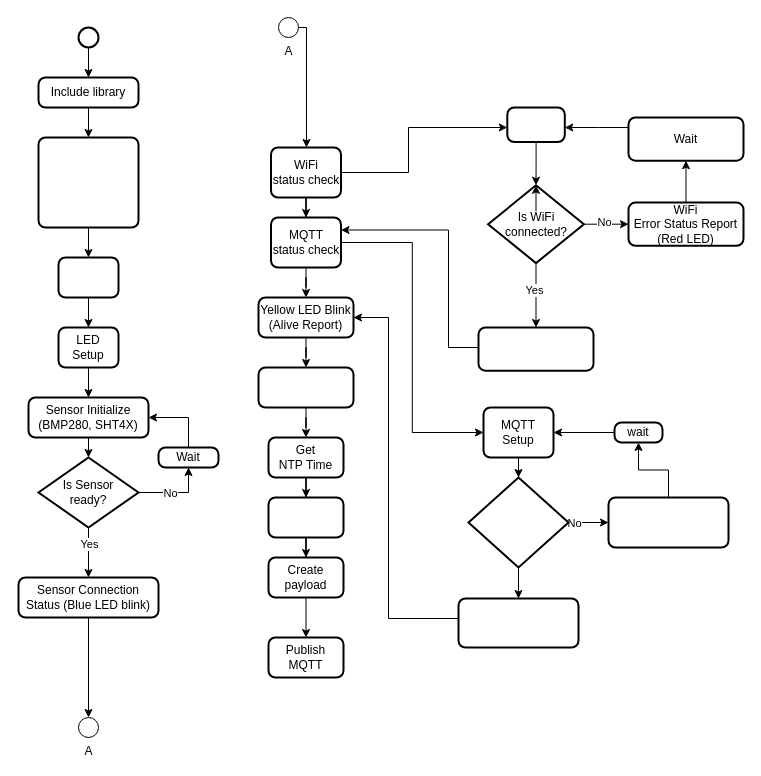
Some shapes in this 761 by 776 pixel diagram are drawn without their labels. The centre of each missing label's shape, as x and y in pixels:
"Connection report (Green LED Hold)" belongs at pixel 518 622.
"Create JSON document" belongs at pixel 305 517.
"Error status report (Grenn LED blink)" belongs at pixel 668 522.
"Is MQTT connected?" belongs at pixel 518 522.
"NTP Setup" belongs at pixel 88 277.
"Provide constances (MQTT, LED, WiFi and Sensor)" belongs at pixel 88 182.
"Retrive data from sensors" belongs at pixel 305 387.
"Setup WiFi" belongs at pixel 535 124.
"WiFi Error Report (Purple LED blink)" belongs at pixel 535 348.
